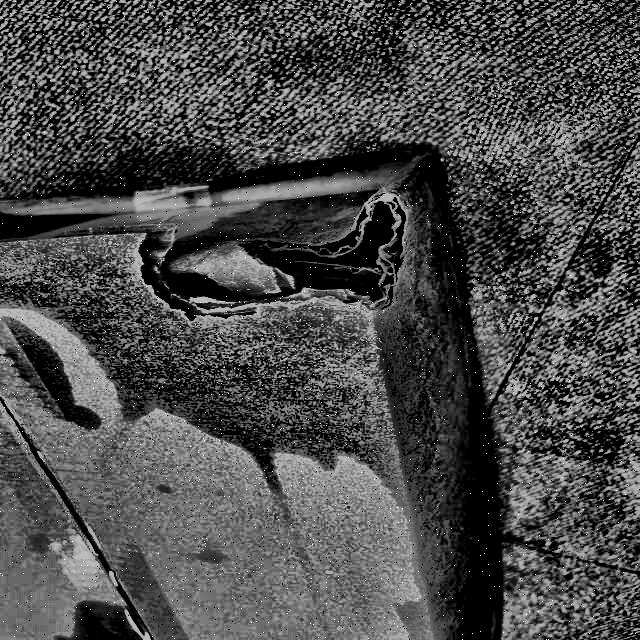box: (1, 134, 505, 640)
hole: (114, 181, 402, 324)
wet: (0, 137, 427, 484)
